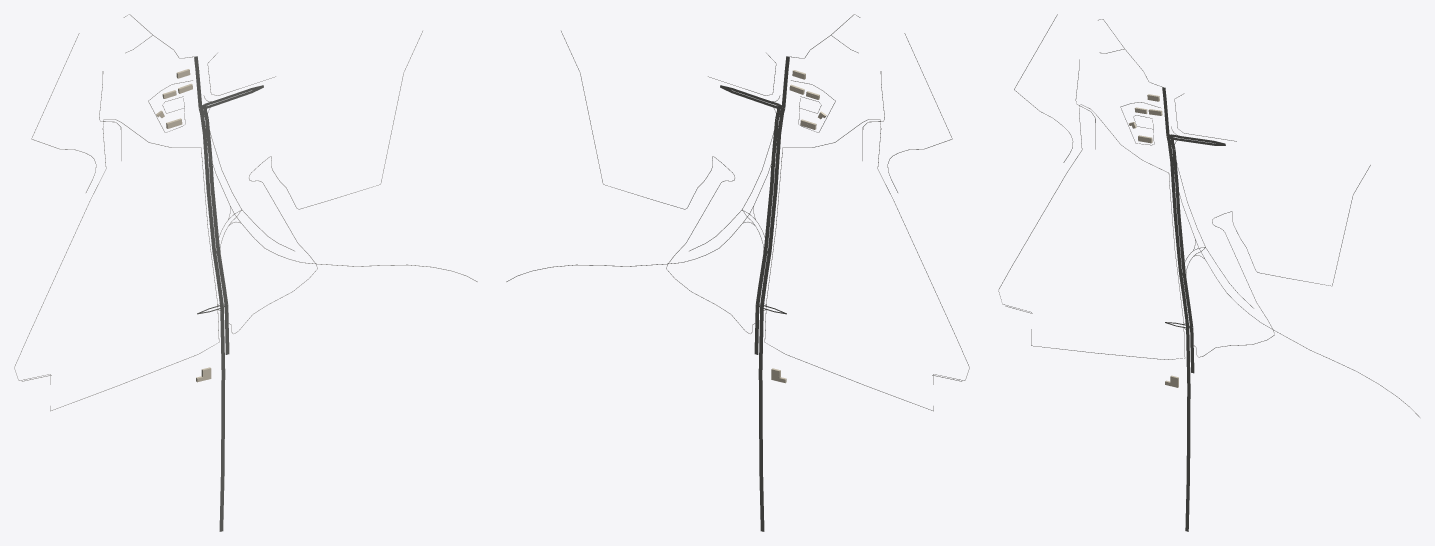
File: historic-palestine-07_26_3490_3201.glb
3 renders of one model, left to right at view 1: azimuth 30°, elevation 25°; view 2: azimuth 150°, elevation 25°; view 3: azimuth 330°, elevation 25°, orthographic. The views are drawn at different scales.
Parts seen in each view (by area): view 1: Road 40, Road בסיס חיל האוויר לוד (פונה), Road 40.009; view 2: Road 40, Road בסיס חיל האוויר לוד (פונה), Road 40.009; view 3: Road 40, Road בסיס חיל האוויר לוד (פונה), Road 40.009.
Part boxes in pixels (box(x1,y1,x2,y2)): Road 40: box(199, 108, 225, 531); Road בסיס חיל האוויר לוד (פונה): box(14, 119, 219, 411); Road 40.009: box(208, 156, 228, 305); Road 40: box(758, 107, 784, 531); Road בסיס חיל האוויר לוד (פונה): box(764, 119, 969, 411); Road 40.009: box(755, 156, 775, 305); Road 40: box(1166, 136, 1190, 531); Road בסיס חיל האוויר לוד (פונה): box(998, 104, 1185, 359); Road 40.009: box(1175, 185, 1193, 327).
Bounding box in the file's own units: 1516 × 1687 × 9.09.
